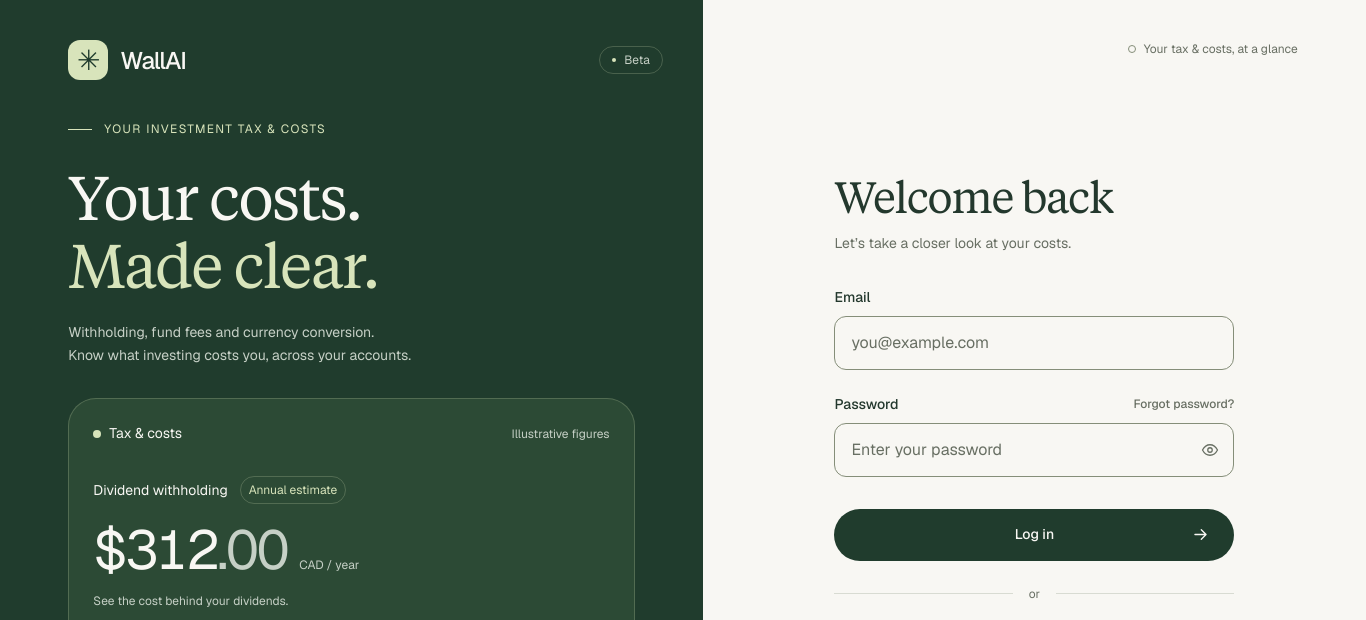
Test case: Login page › forgot password › sends a reset for the typed address and confirms neutrally
This screenshot has width=1366, height=620.
In the field labelled "Email": x=1034, y=343 [834, 316, 1234, 370], type "a@b.com"
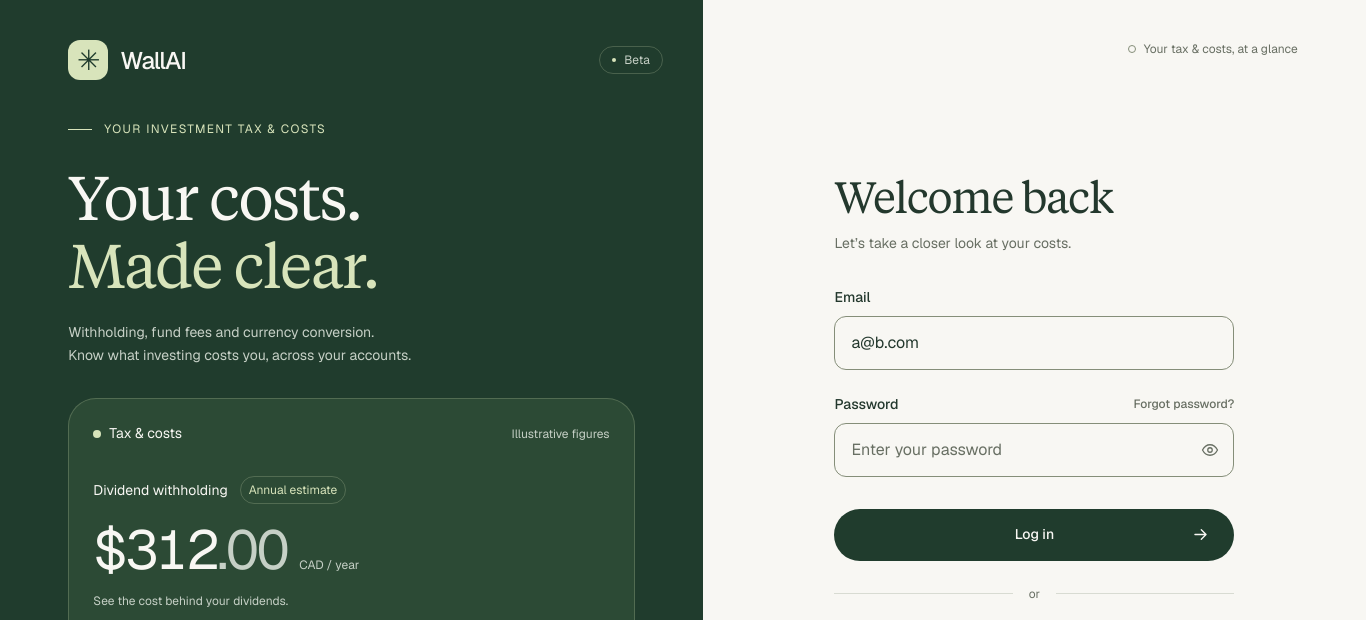
Click the button "Forgot password?": x=1184, y=404 [1134, 382, 1234, 426]
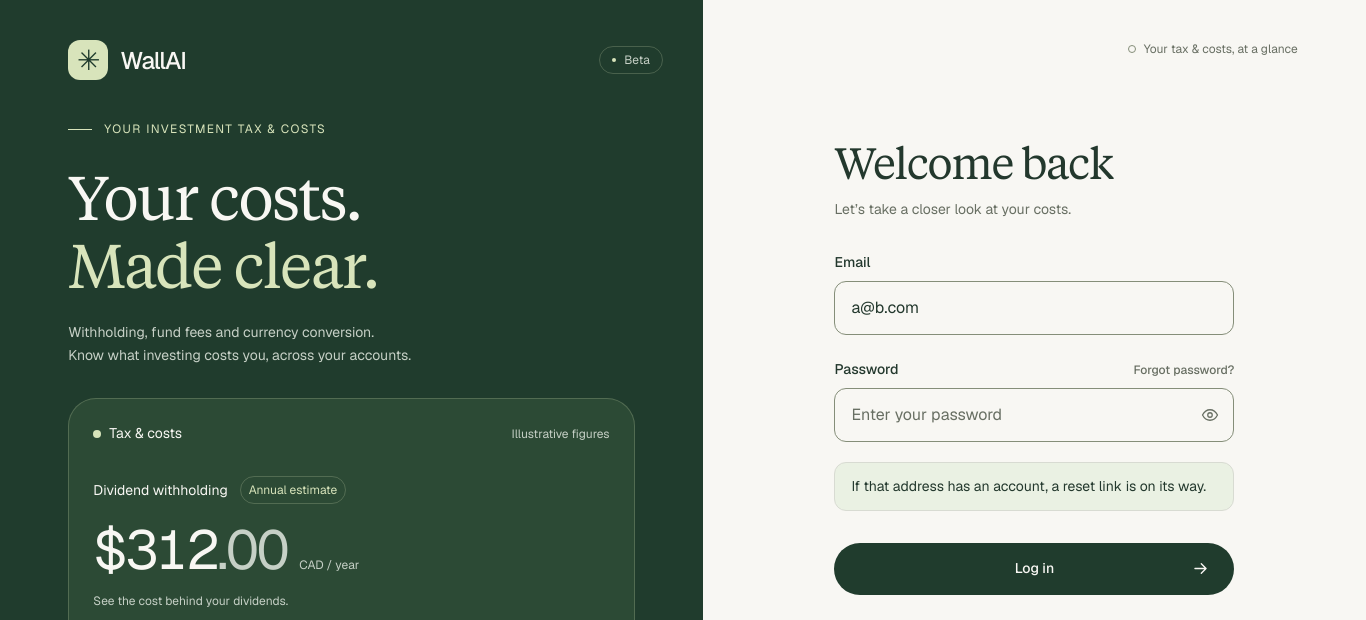
Expected: the message shows "If that address has an account", [851, 478, 1206, 496]
